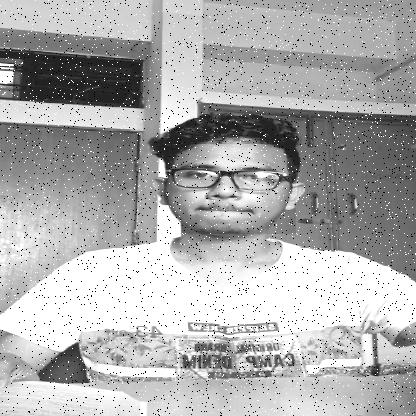Normal: (164, 140, 296, 234)
